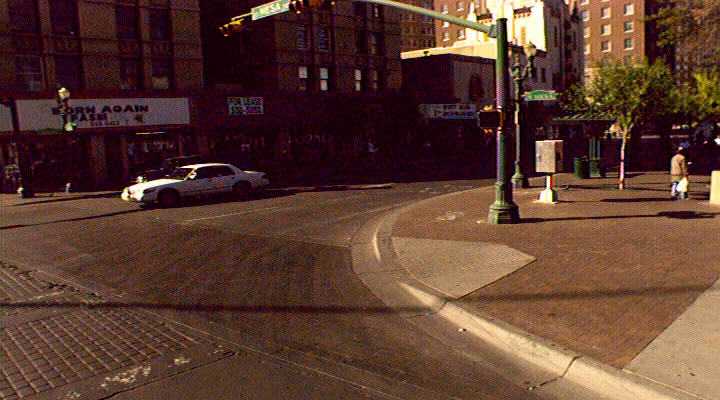Ramp: (355, 235, 542, 315)
